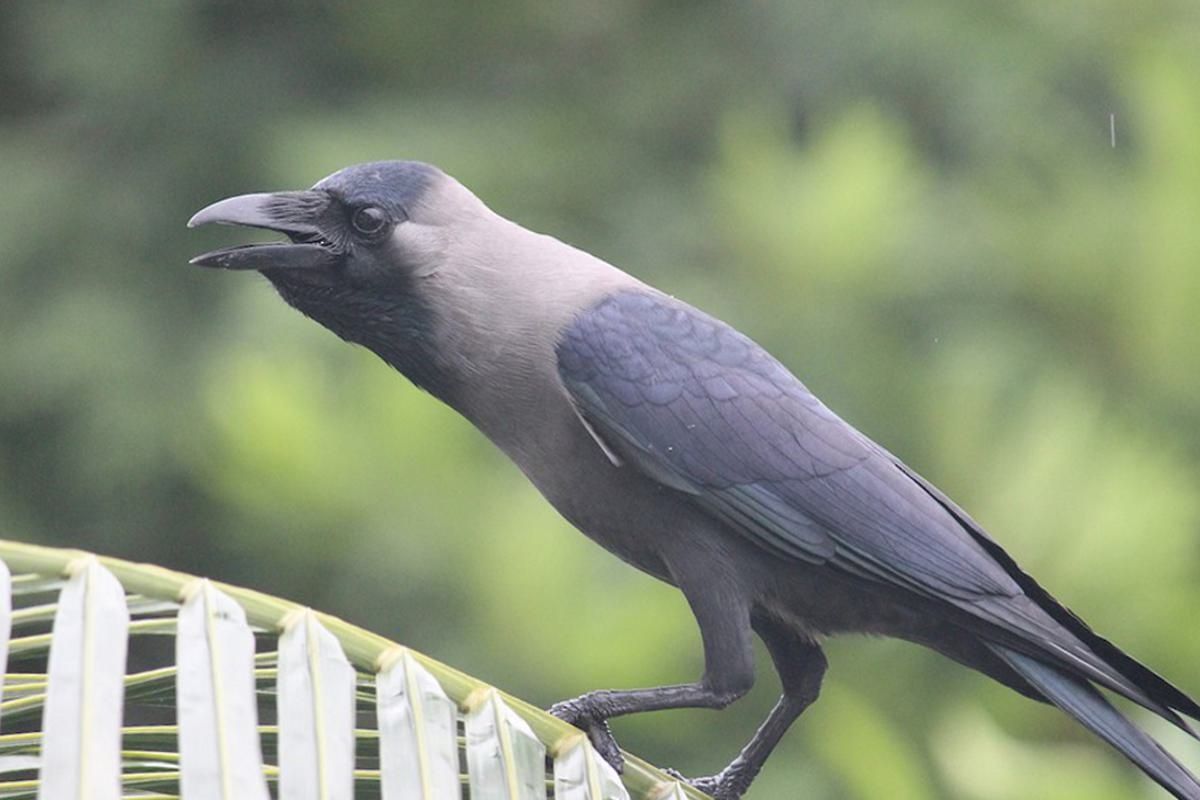crow: (167, 136, 1200, 793)
